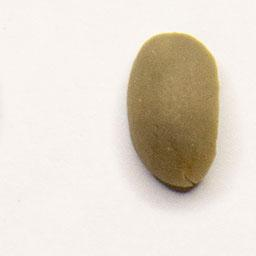premium: (124, 28, 224, 195)
